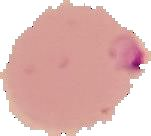parasitized: (103, 26, 148, 89)
